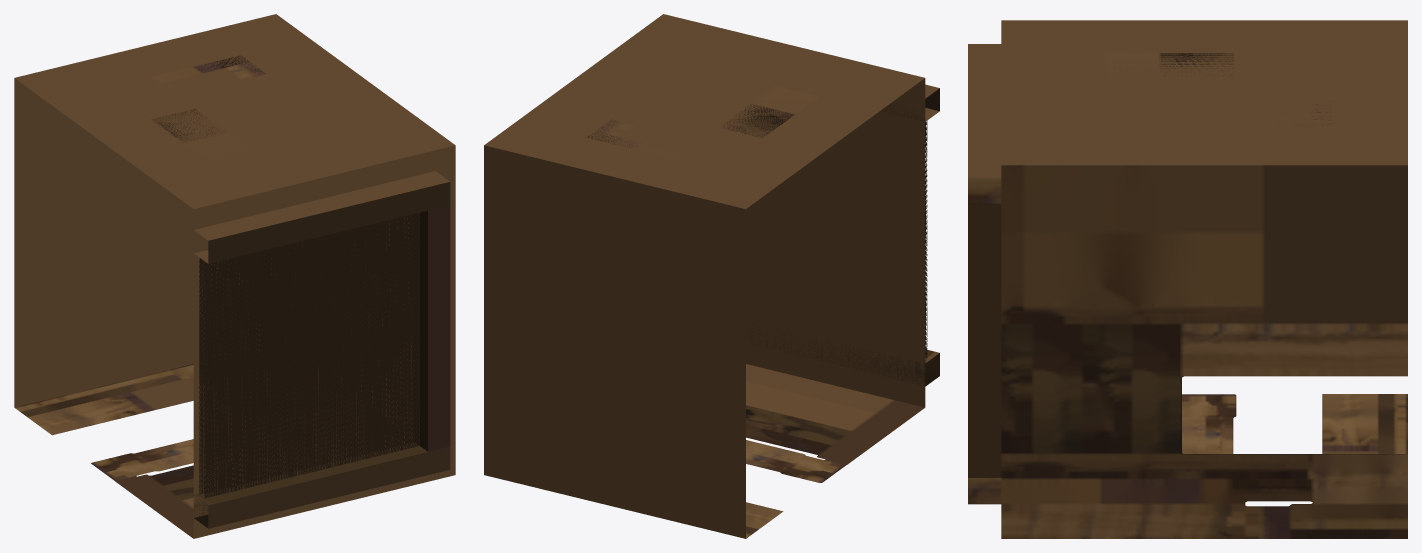
File: section-3.obj
The picture shows the model from 3 angles, left to right: view 1: azimuth 30°, elevation 25°; view 2: azimuth 150°, elevation 25°; view 3: azimuth 270°, elevation 25°; orthographic projection. The views are drawn at different scales.
Bounding box in the file's own units: 0.59 × 0.722 × 0.757.
